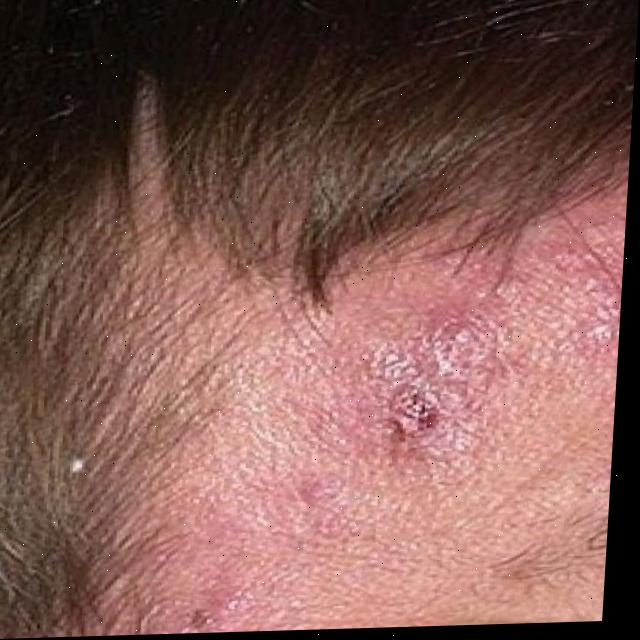Rosacea: (394, 323, 484, 425)
